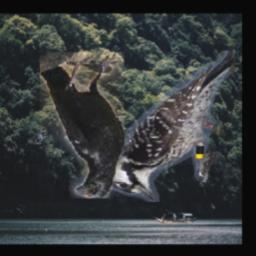Crow: (41, 52, 126, 198), (28, 128, 46, 145)
Woodpecker: (104, 50, 236, 202)
